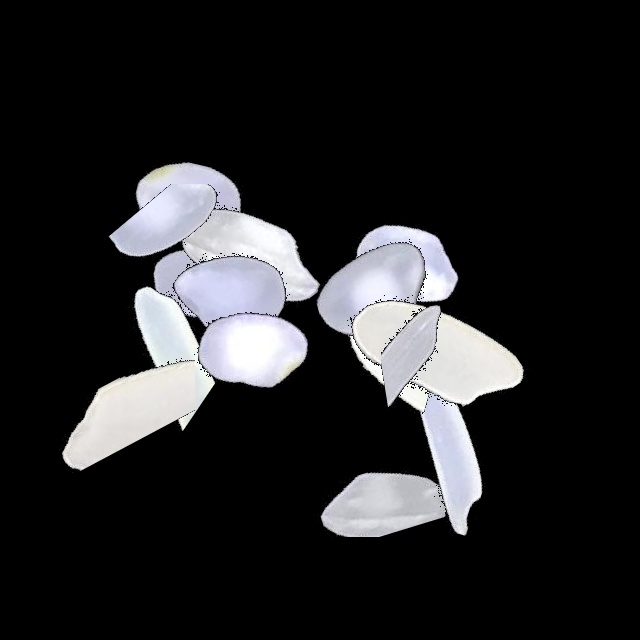Broken: (62, 228, 219, 478), (242, 382, 492, 537), (71, 184, 321, 323), (59, 244, 195, 494), (247, 280, 497, 414), (381, 232, 515, 482), (95, 185, 219, 435)
Full: (314, 313, 564, 563), (281, 141, 531, 391), (61, 77, 311, 327), (248, 164, 498, 414), (309, 224, 559, 474), (123, 133, 373, 383), (105, 164, 355, 414), (129, 224, 379, 474)
